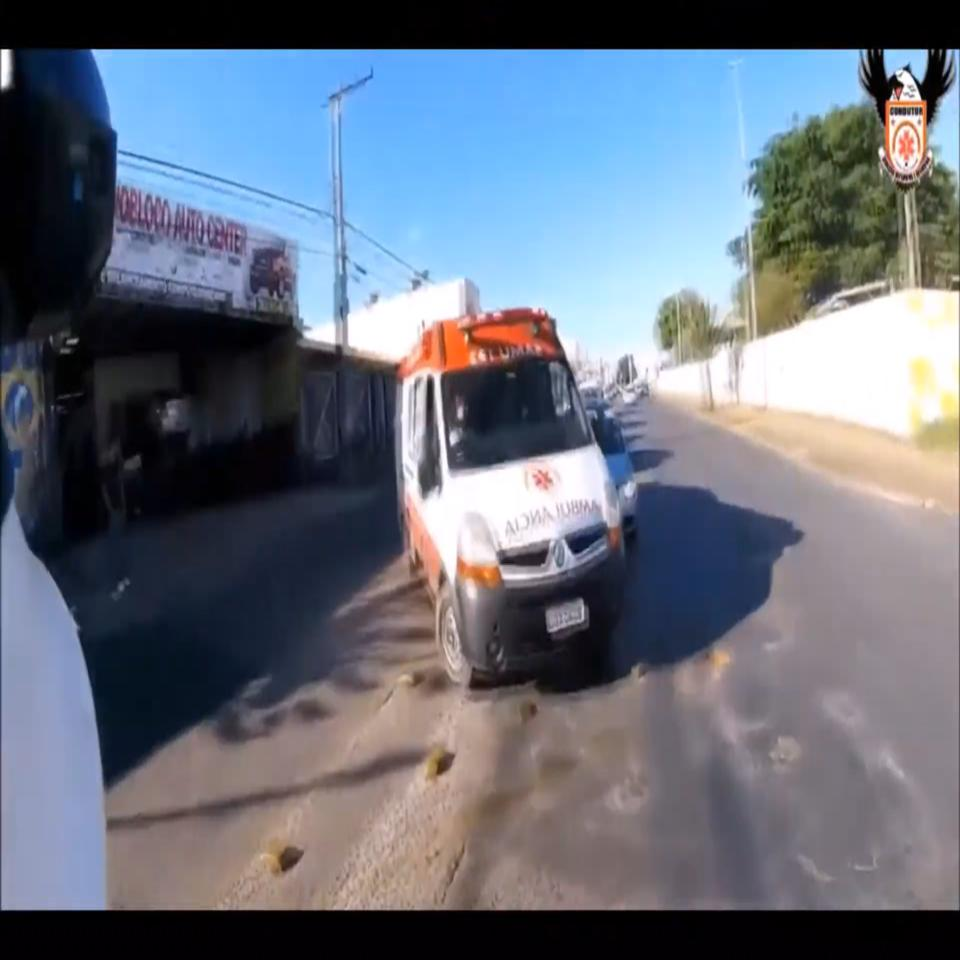bombeiro: (393, 304, 626, 686)
